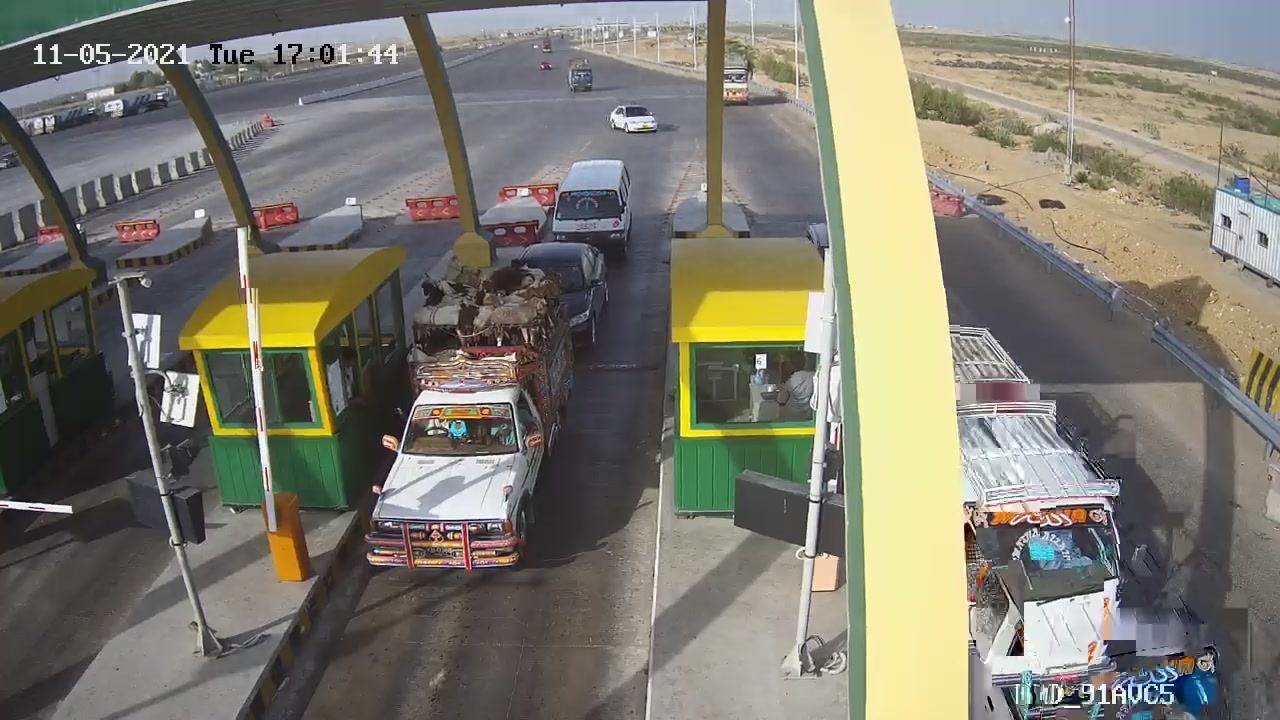F1: (352, 255, 590, 594)
F2: (537, 152, 647, 272)
